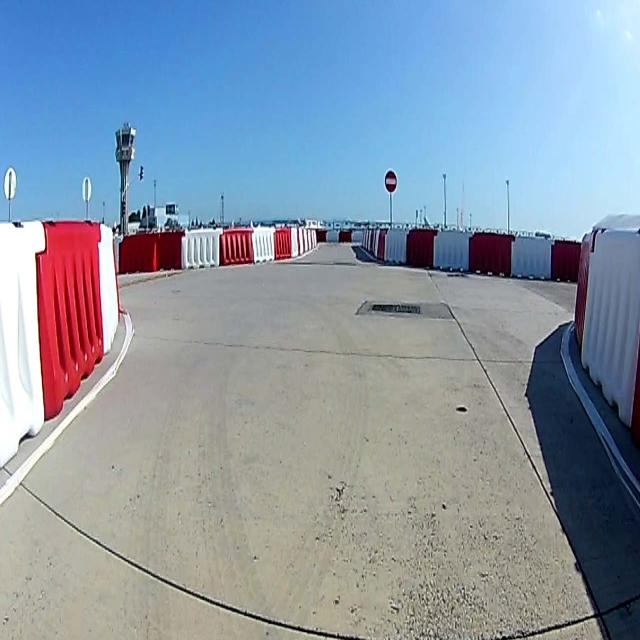girisyok: (384, 168, 398, 194)
